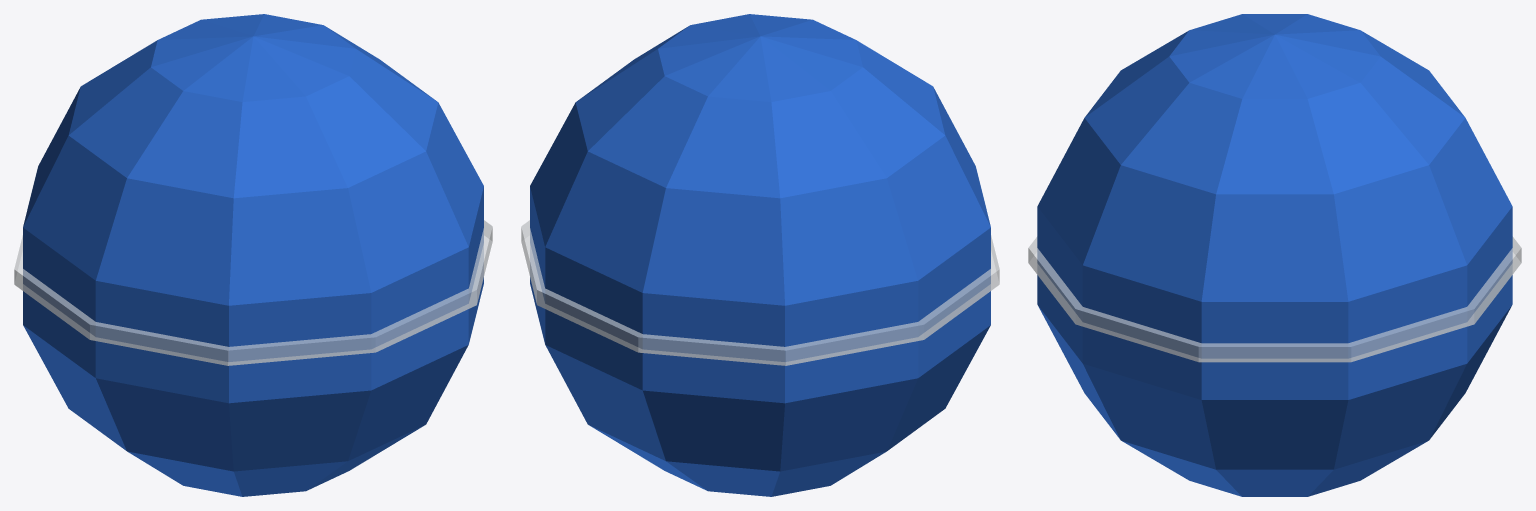
Rendered from paintball_blue.glb.
The picture shows the model from 3 angles, left to right: view 1: azimuth 30°, elevation 25°; view 2: azimuth 150°, elevation 25°; view 3: azimuth 270°, elevation 25°; orthographic projection.
Visible parts, largest first — view 1: paintball_blue; view 2: paintball_blue; view 3: paintball_blue.
Part boxes in pixels (<box>): paintball_blue: <box>14,14,492,496</box>; paintball_blue: <box>521,14,999,496</box>; paintball_blue: <box>1028,14,1521,496</box>.
Size of the model in its own units: 0.0165 by 0.0172 by 0.0174.
